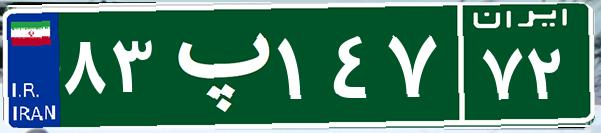1: (273, 28, 330, 110)
2: (525, 38, 570, 115)
3: (110, 28, 158, 105)
4: (330, 28, 385, 110)
7: (385, 28, 445, 110), (475, 38, 525, 113)
8: (57, 26, 110, 107)
پ: (158, 15, 273, 115)
